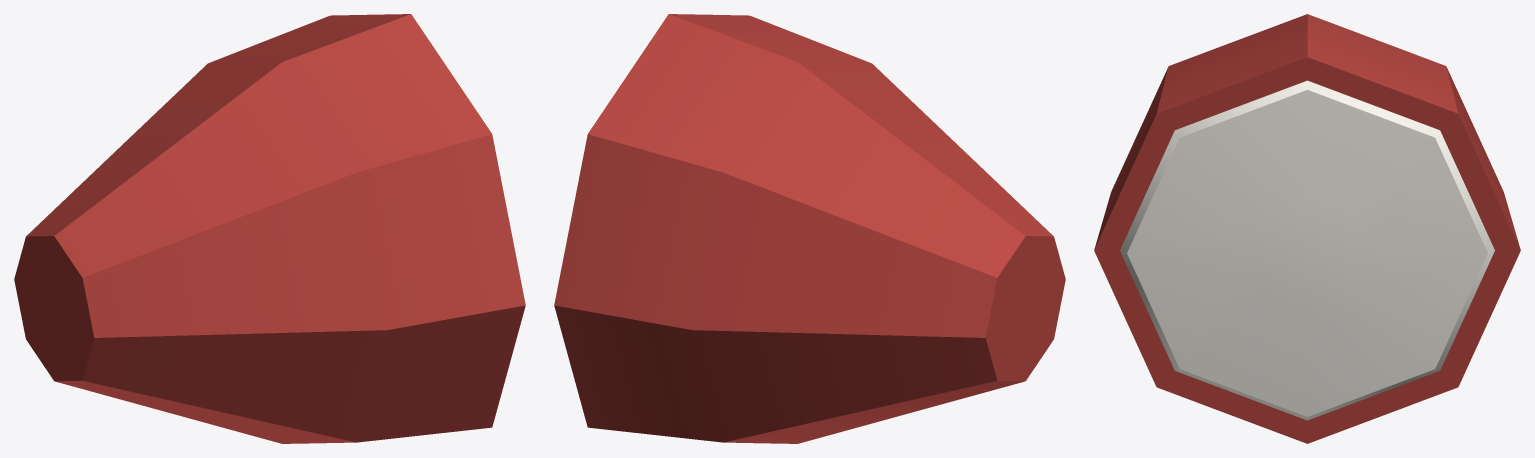
The model's file is bullet_lod2.glb.
3 views of the same model, side by side, from view 1: azimuth 30°, elevation 25°; view 2: azimuth 150°, elevation 25°; view 3: azimuth 270°, elevation 25° (orthographic). The views are drawn at different scales.
Parts seen in each view (by area): view 1: bullet_lod2; view 2: bullet_lod2; view 3: bullet_lod2.
Part boxes in pixels (x1=…): bullet_lod2: x1=14, y1=14, x2=525, y2=443; bullet_lod2: x1=554, y1=14, x2=1065, y2=443; bullet_lod2: x1=1094, y1=14, x2=1520, y2=443.
Bounding box in the file's own units: 1.87 × 2 × 2.
